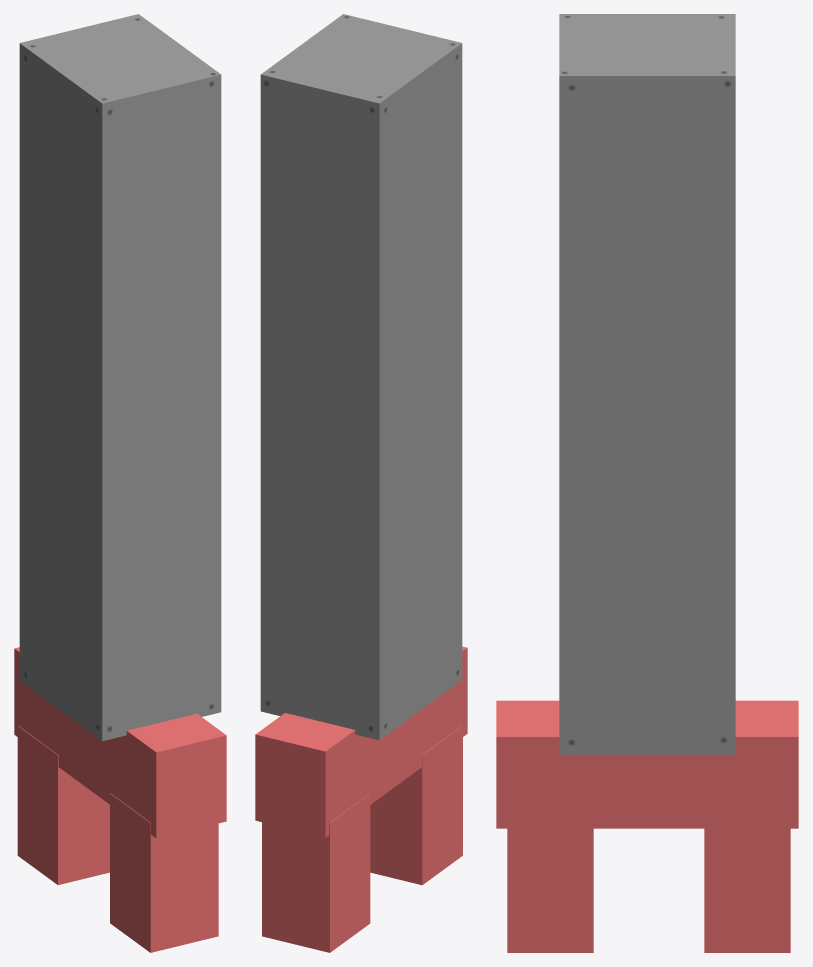
Rendered from playerlefthand.obj.
3 renders of one model, left to right at view 1: azimuth 30°, elevation 25°; view 2: azimuth 150°, elevation 25°; view 3: azimuth 270°, elevation 25°, orthographic. The views are drawn at different scales.
Visible parts, largest first — view 1: Cube.007; view 2: Cube.007; view 3: Cube.007.
Boxes of the visible parts, x1,y1,x2,y2 form: Cube.007: [14, 14, 226, 952]; Cube.007: [255, 14, 467, 952]; Cube.007: [496, 14, 798, 952].
Bounding box in the file's own units: 0.2026 × 1.36 × 0.4187.
1 material, 1 textured.
